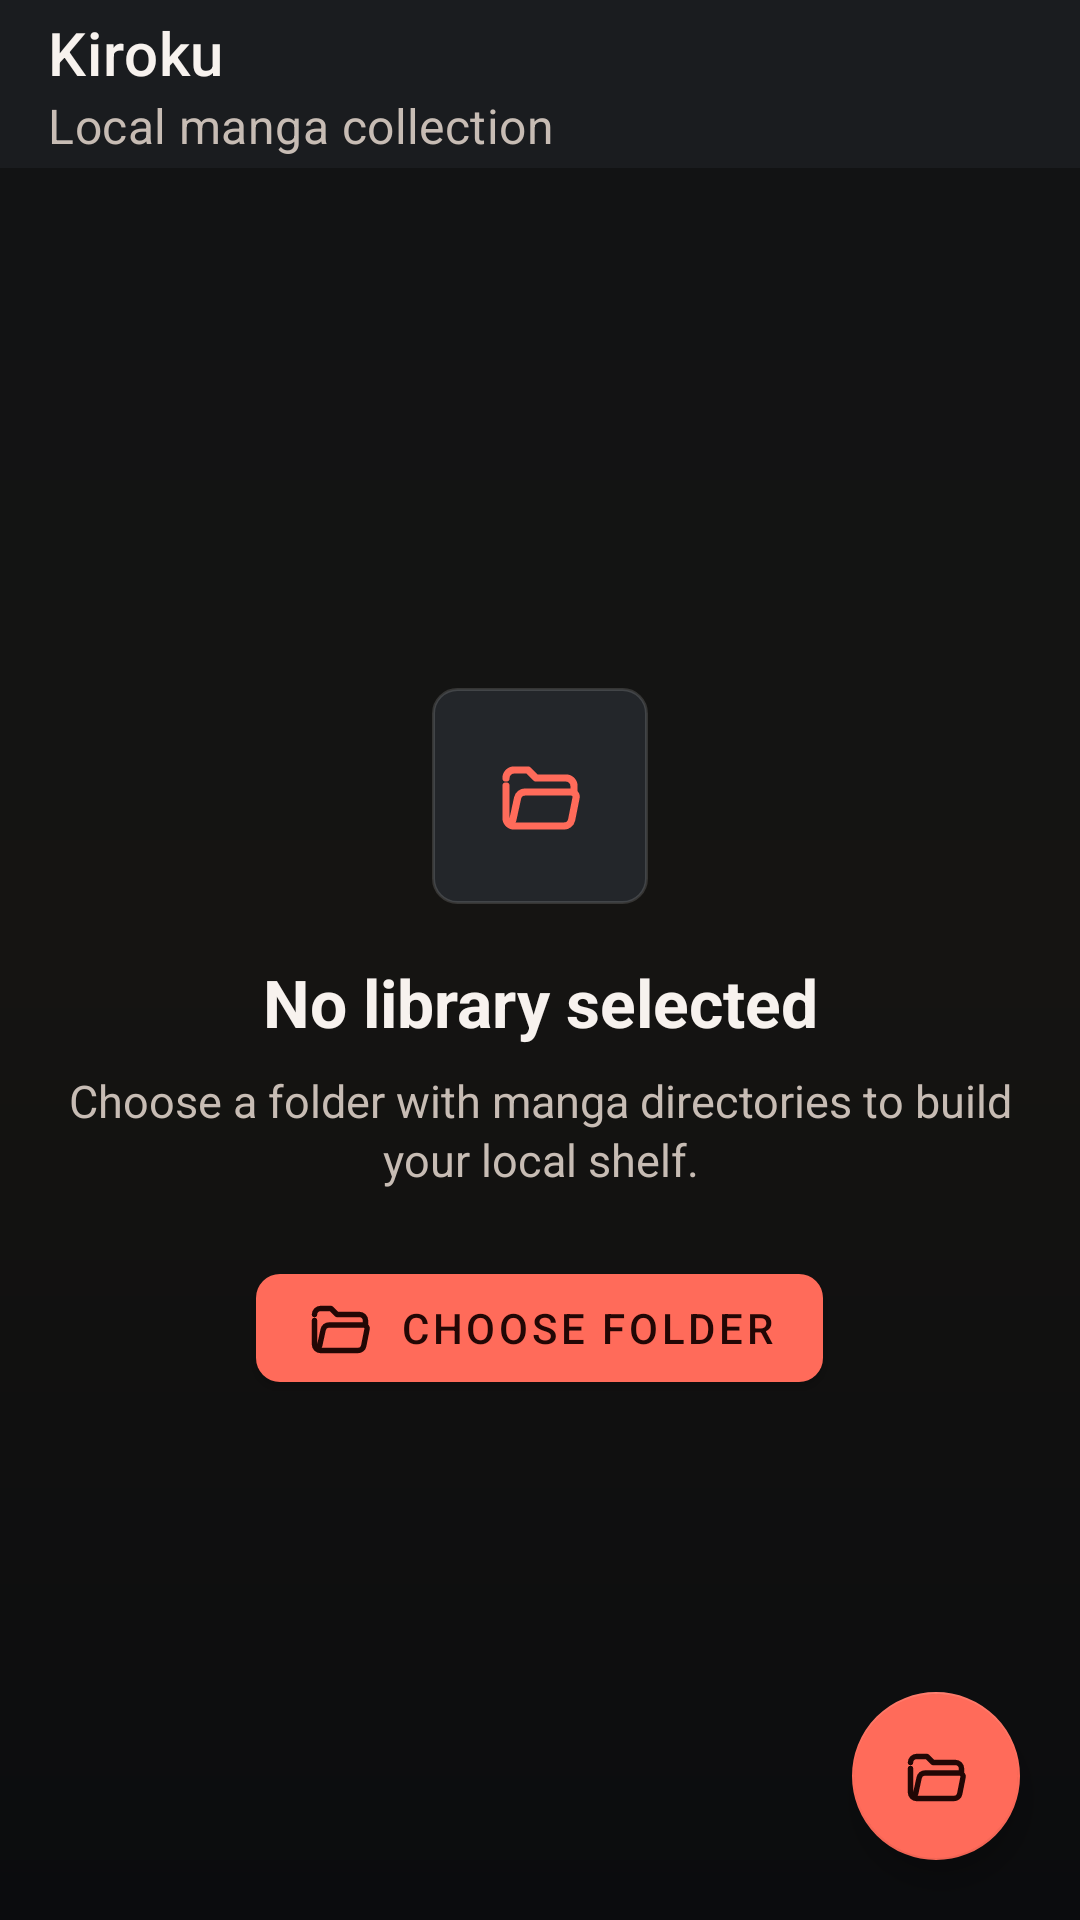

Locate icon controls on the screen. Image size 1080×1920, boxes as (x1, y1, x2, y2).
Choose folder: (852, 1692, 1020, 1860)
folder open: (502, 766, 580, 830)
